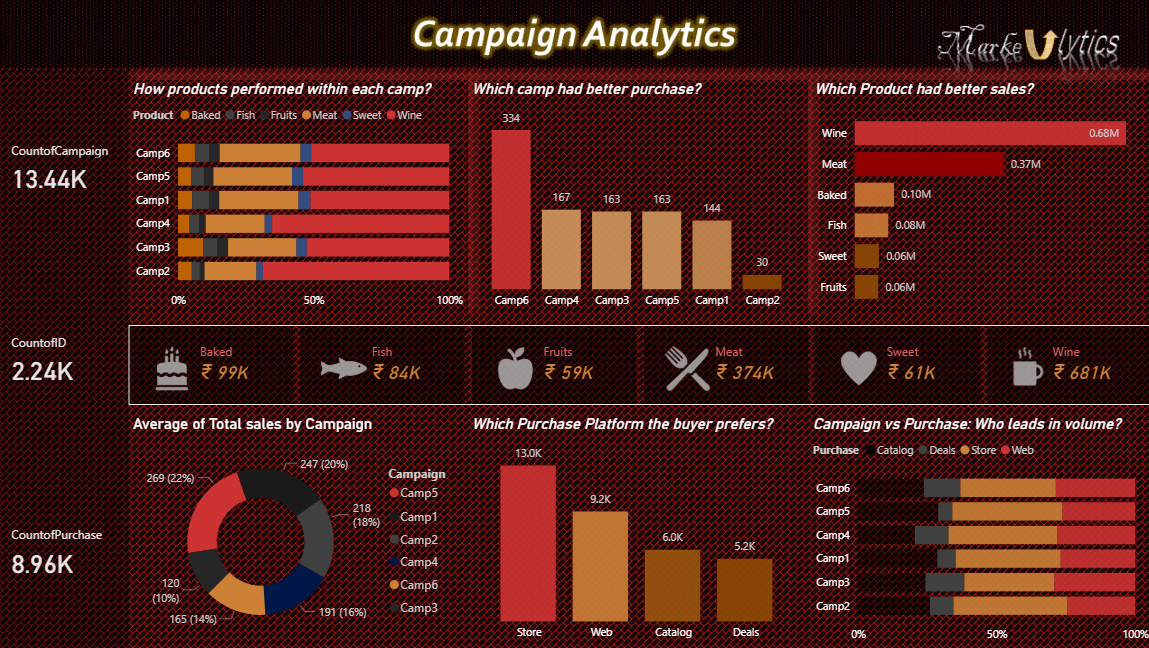

This screenshot's page, from the dashboard's own definition file:
{"tool":"powerbi","page":{"name":"Camp Effectiveness","canvas":[1280,720],"ordinal":0},"visuals":[{"type":"clusteredColumnChart","title":"Which camp had better purchase?","fields":{"Category":["campaignsOnly.Campaign"],"Y":["Sum(campaignsOnly.Accepted_indic)"]},"box":[522,88.2,376.5,261.7],"z":0},{"type":"donutChart","fields":{"Category":["campaignsOnly.Campaign"],"Y":["Avg(productsOnly.Total sales)"]},"box":[146.8,458.5,374.7,261.4],"z":1000},{"type":"hundredPercentStackedBarChart","title":"How products performed within each camp?","fields":{"Category":["campaignsOnly.Campaign"],"Series":["productsOnly.Product"],"Y":["Sum(productsOnly.Total sales)"]},"box":[147,88.2,375.1,261.7],"z":2000},{"type":"clusteredBarChart","title":"Which Product had better sales?","fields":{"Category":["productsOnly.Product"],"Y":["Sum(productsOnly.Total sales)"]},"box":[899.9,88.2,379.3,261.7],"z":3000},{"type":"hundredPercentStackedBarChart","title":"Campaign vs Purchase: Who leads in volume?","fields":{"Category":["campaignsOnly.Campaign"],"Y":["Sum(purchasesOnly.Qty)"],"Series":["purchasesOnly.Purchase"]},"box":[898.9,458.5,381.7,261.4],"z":4000},{"type":"clusteredColumnChart","title":"Which Purchase Platform the buyer prefers?","fields":{"Category":["purchasesOnly.Purchase"],"Y":["Sum(purchasesOnly.Qty)"]},"box":[521.5,458.5,377.5,258.6],"z":5000},{"type":"cardVisual","fields":{"Data":["CountNonNull(campaignsOnly.Campaign)","CountNonNull(marketmindz_research_data.ID)","CountNonNull(purchasesOnly.Purchase)"]},"box":[0,76.9,146.8,643.1],"z":6000},{"type":"cardVisual","fields":{"Data":["Sum(marketmindz_research_data.BakedAmount)","Sum(marketmindz_research_data.FishAmount)","Sum(marketmindz_research_data.FruitsAmount)","Sum(marketmindz_research_data.MeatAmount)","Sum(marketmindz_research_data.SweetAmount)","Sum(marketmindz_research_data.WinesAmount)"]},"box":[147.2,359.5,1132.8,88],"z":7000}]}

Visuals, with their boxes in screenshot pixels (x1, y1, x2, y2), scaled from the page's 1280x720 canvas onto the 1149x648 screenshot:
"Which camp had better purchase?" clusteredColumnChart: bbox(469, 79, 807, 315)
donutChart - campaignsOnly.Campaign x Avg(productsOnly.Total sales): bbox(132, 413, 468, 647)
"How products performed within each camp?" hundredPercentStackedBarChart: bbox(132, 79, 469, 315)
"Which Product had better sales?" clusteredBarChart: bbox(808, 79, 1148, 315)
"Campaign vs Purchase: Who leads in volume?" hundredPercentStackedBarChart: bbox(807, 413, 1148, 647)
"Which Purchase Platform the buyer prefers?" clusteredColumnChart: bbox(468, 413, 807, 645)
cardVisual - CountNonNull(campaignsOnly.Campaign) x CountNonNull(marketmindz_research_data.ID): bbox(0, 69, 132, 647)
cardVisual - Sum(marketmindz_research_data.BakedAmount) x Sum(marketmindz_research_data.FishAmount): bbox(132, 324, 1148, 403)
